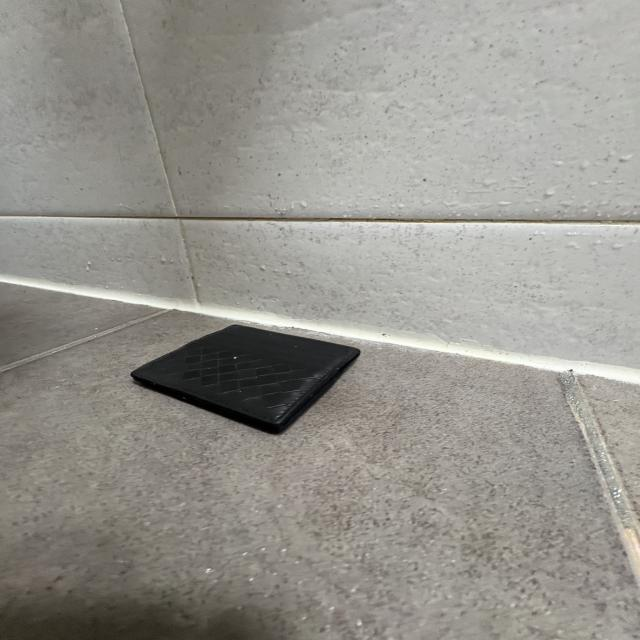wallet: (133, 322, 361, 438)
